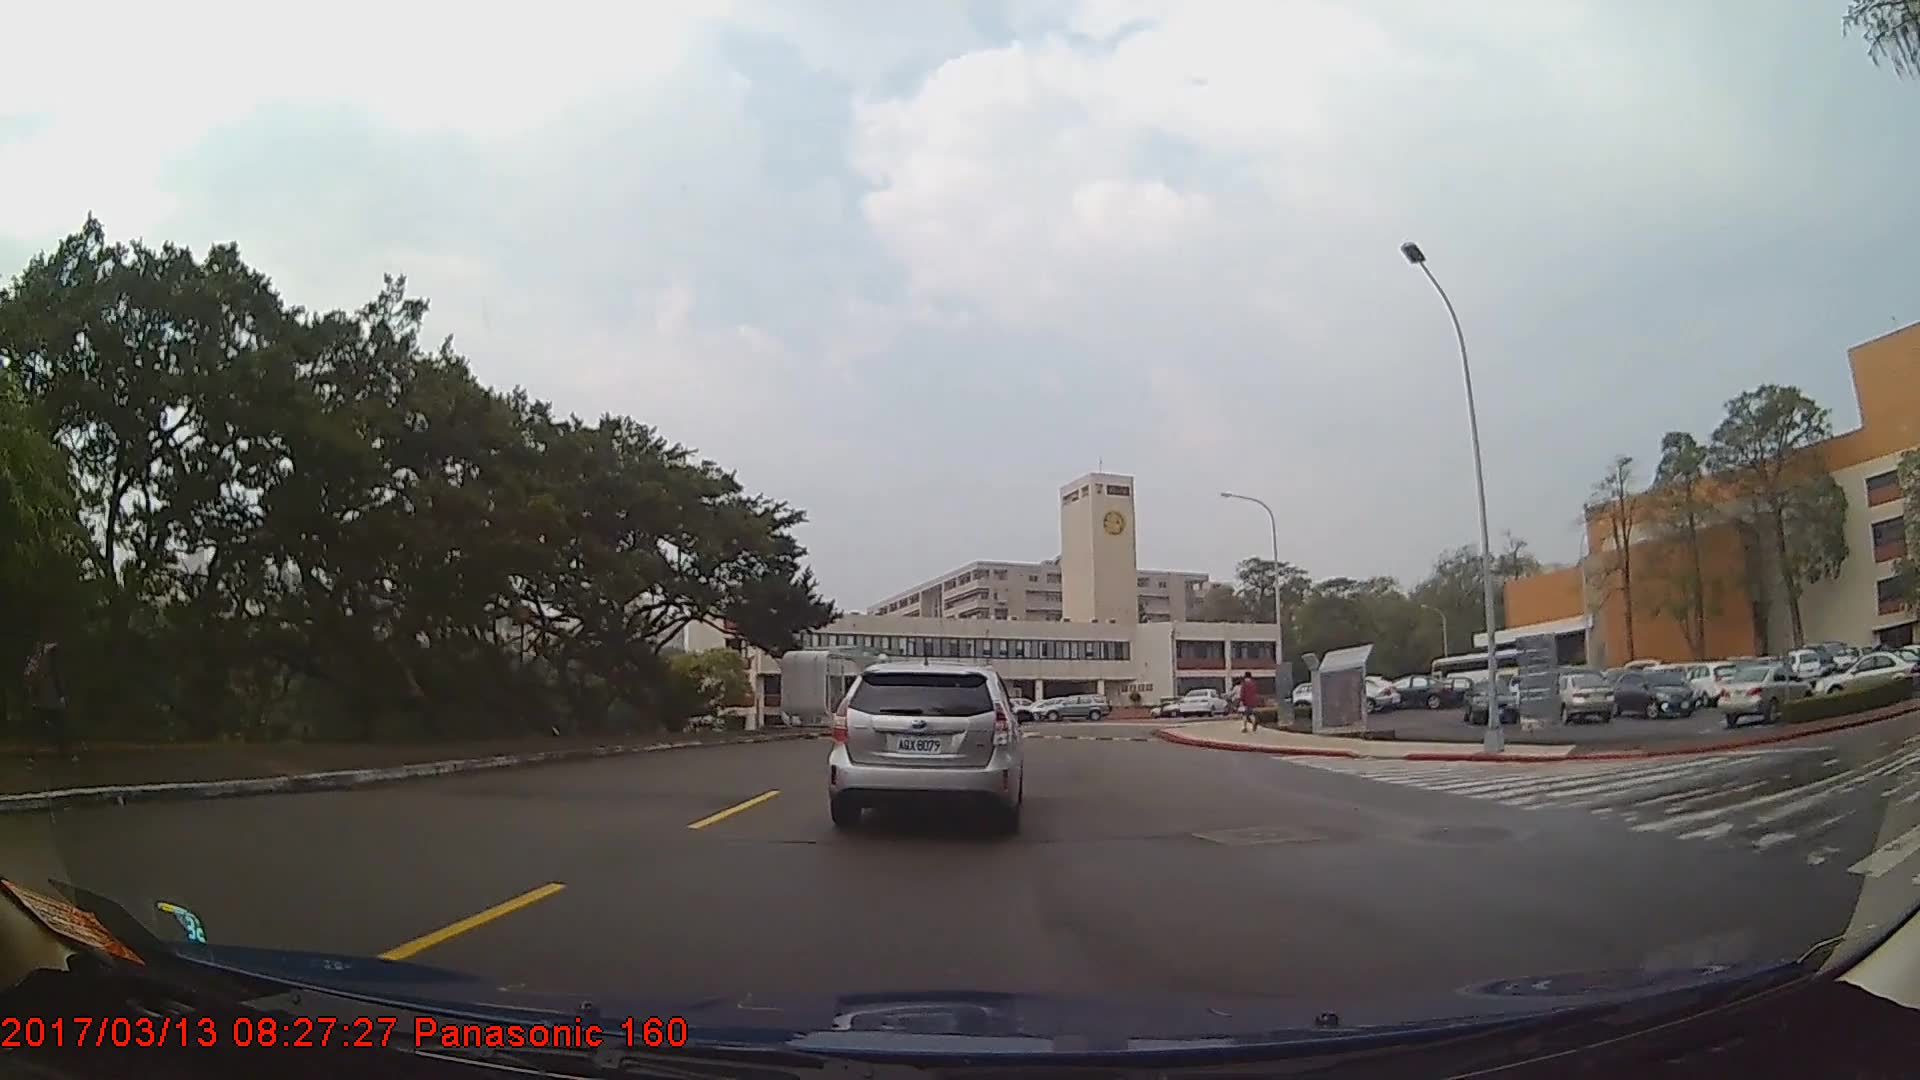pedestrian: (16, 621, 76, 760), (1239, 672, 1262, 735)
vehicle: (830, 659, 1024, 830), (1718, 662, 1812, 724), (1814, 651, 1912, 699), (1609, 668, 1696, 718), (1551, 671, 1615, 725), (1380, 675, 1455, 711), (1462, 680, 1520, 725), (1034, 694, 1111, 723), (1178, 687, 1230, 718)
